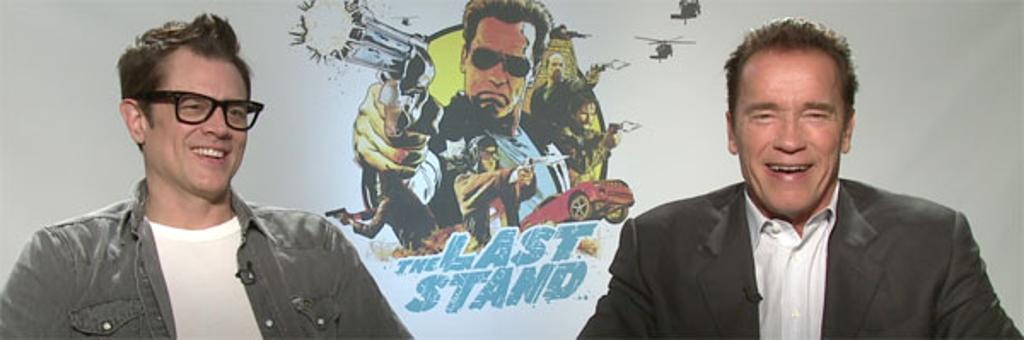face: (730, 52, 844, 214), (156, 42, 246, 190), (462, 18, 524, 108)
